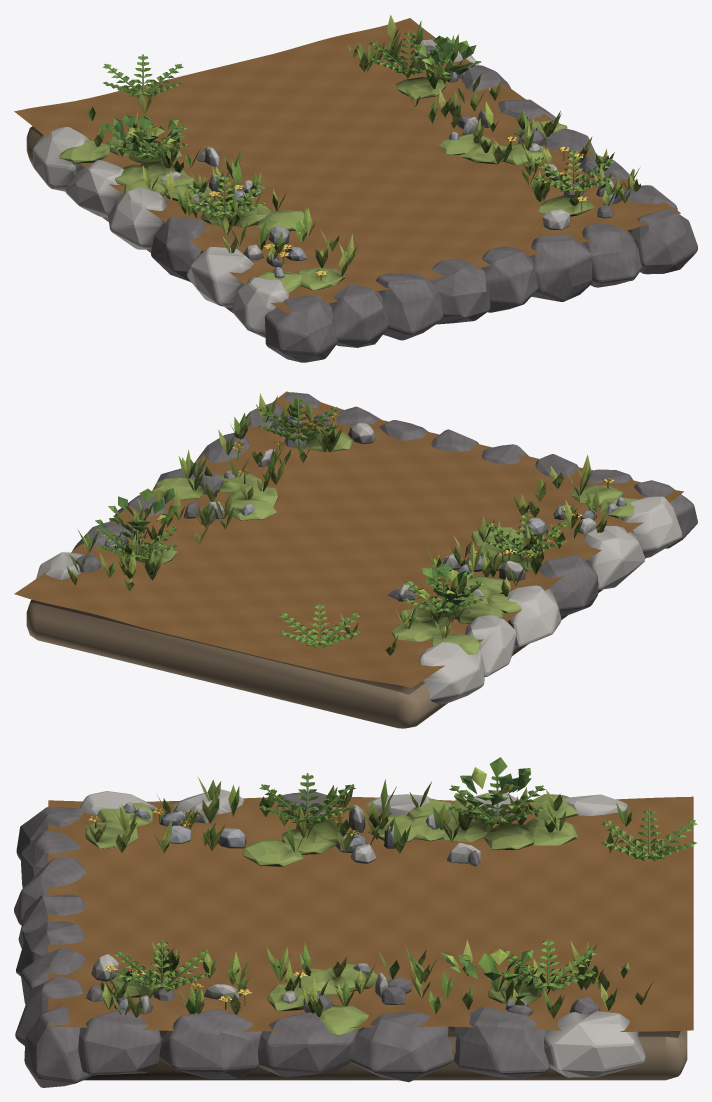
The model's file is TerrainPatch.fbx.
3 renders of one model, top to bottom at view 1: azimuth 30°, elevation 25°; view 2: azimuth 150°, elevation 25°; view 3: azimuth 270°, elevation 25°, orthographic. The views are drawn at different scales.
Visible parts, largest first — view 1: TerrainPatch_Soil, TerrainPatch_Rock, TerrainPatch_RockLight, TerrainPatch_Leaf, TerrainPatch_Moss, TerrainPatch_Grass, TerrainPatch_LeafLight, TerrainPatch_LeafDark, TerrainPatch_RockShadow, TerrainPatch_Flower; view 2: TerrainPatch_Soil, TerrainPatch_EarthCut, TerrainPatch_RockLight, TerrainPatch_Rock, TerrainPatch_Leaf, TerrainPatch_Moss, TerrainPatch_Grass, TerrainPatch_LeafLight, TerrainPatch_LeafDark, TerrainPatch_RockShadow; view 3: TerrainPatch_Soil, TerrainPatch_Rock, TerrainPatch_Leaf, TerrainPatch_Moss, TerrainPatch_RockLight, TerrainPatch_EarthCut, TerrainPatch_LeafLight, TerrainPatch_Grass, TerrainPatch_LeafDark, TerrainPatch_RockShadow, TerrainPatch_Flower.
Boxes of the visible parts, left/top/right/bottom form: TerrainPatch_Soil: left=14, top=18, right=680, bottom=312; TerrainPatch_Rock: left=151, top=45, right=697, bottom=362; TerrainPatch_RockLight: left=32, top=39, right=614, bottom=337; TerrainPatch_Leaf: left=87, top=20, right=633, bottom=280; TerrainPatch_Moss: left=58, top=77, right=594, bottom=292; TerrainPatch_Grass: left=94, top=15, right=639, bottom=275; TerrainPatch_LeafLight: left=85, top=23, right=640, bottom=264; TerrainPatch_LeafDark: left=100, top=31, right=612, bottom=215; TerrainPatch_RockShadow: left=209, top=71, right=622, bottom=278; TerrainPatch_Flower: left=197, top=136, right=587, bottom=275; TerrainPatch_Soil: left=14, top=391, right=683, bottom=687; TerrainPatch_EarthCut: left=26, top=558, right=645, bottom=728; TerrainPatch_RockLight: left=36, top=419, right=682, bottom=704; TerrainPatch_Rock: left=72, top=392, right=697, bottom=616; TerrainPatch_Leaf: left=68, top=395, right=608, bottom=655; TerrainPatch_Moss: left=135, top=430, right=638, bottom=654; TerrainPatch_Grass: left=67, top=393, right=607, bottom=637; TerrainPatch_LeafLight: left=70, top=403, right=604, bottom=654; TerrainPatch_LeafDark: left=95, top=397, right=564, bottom=645; TerrainPatch_RockShadow: left=115, top=416, right=626, bottom=572; TerrainPatch_Soil: left=48, top=796, right=693, bottom=1031; TerrainPatch_Rock: left=14, top=792, right=600, bottom=1087; TerrainPatch_Leaf: left=88, top=757, right=697, bottom=1018; TerrainPatch_Moss: left=85, top=794, right=578, bottom=1035; TerrainPatch_RockLight: left=80, top=789, right=645, bottom=1077; TerrainPatch_EarthCut: left=84, top=1026, right=687, bottom=1080; TerrainPatch_LeafLight: left=102, top=767, right=649, bottom=1017; TerrainPatch_Grass: left=84, top=776, right=653, bottom=1017; TerrainPatch_LeafDark: left=115, top=768, right=695, bottom=999; TerrainPatch_RockShadow: left=114, top=802, right=528, bottom=1011; TerrainPatch_Flower: left=88, top=801, right=360, bottom=1001.
Bounding box in the file's own units: 4.78 × 0.9904 × 5.41.
Materials: 11 (2 with a texture image).
